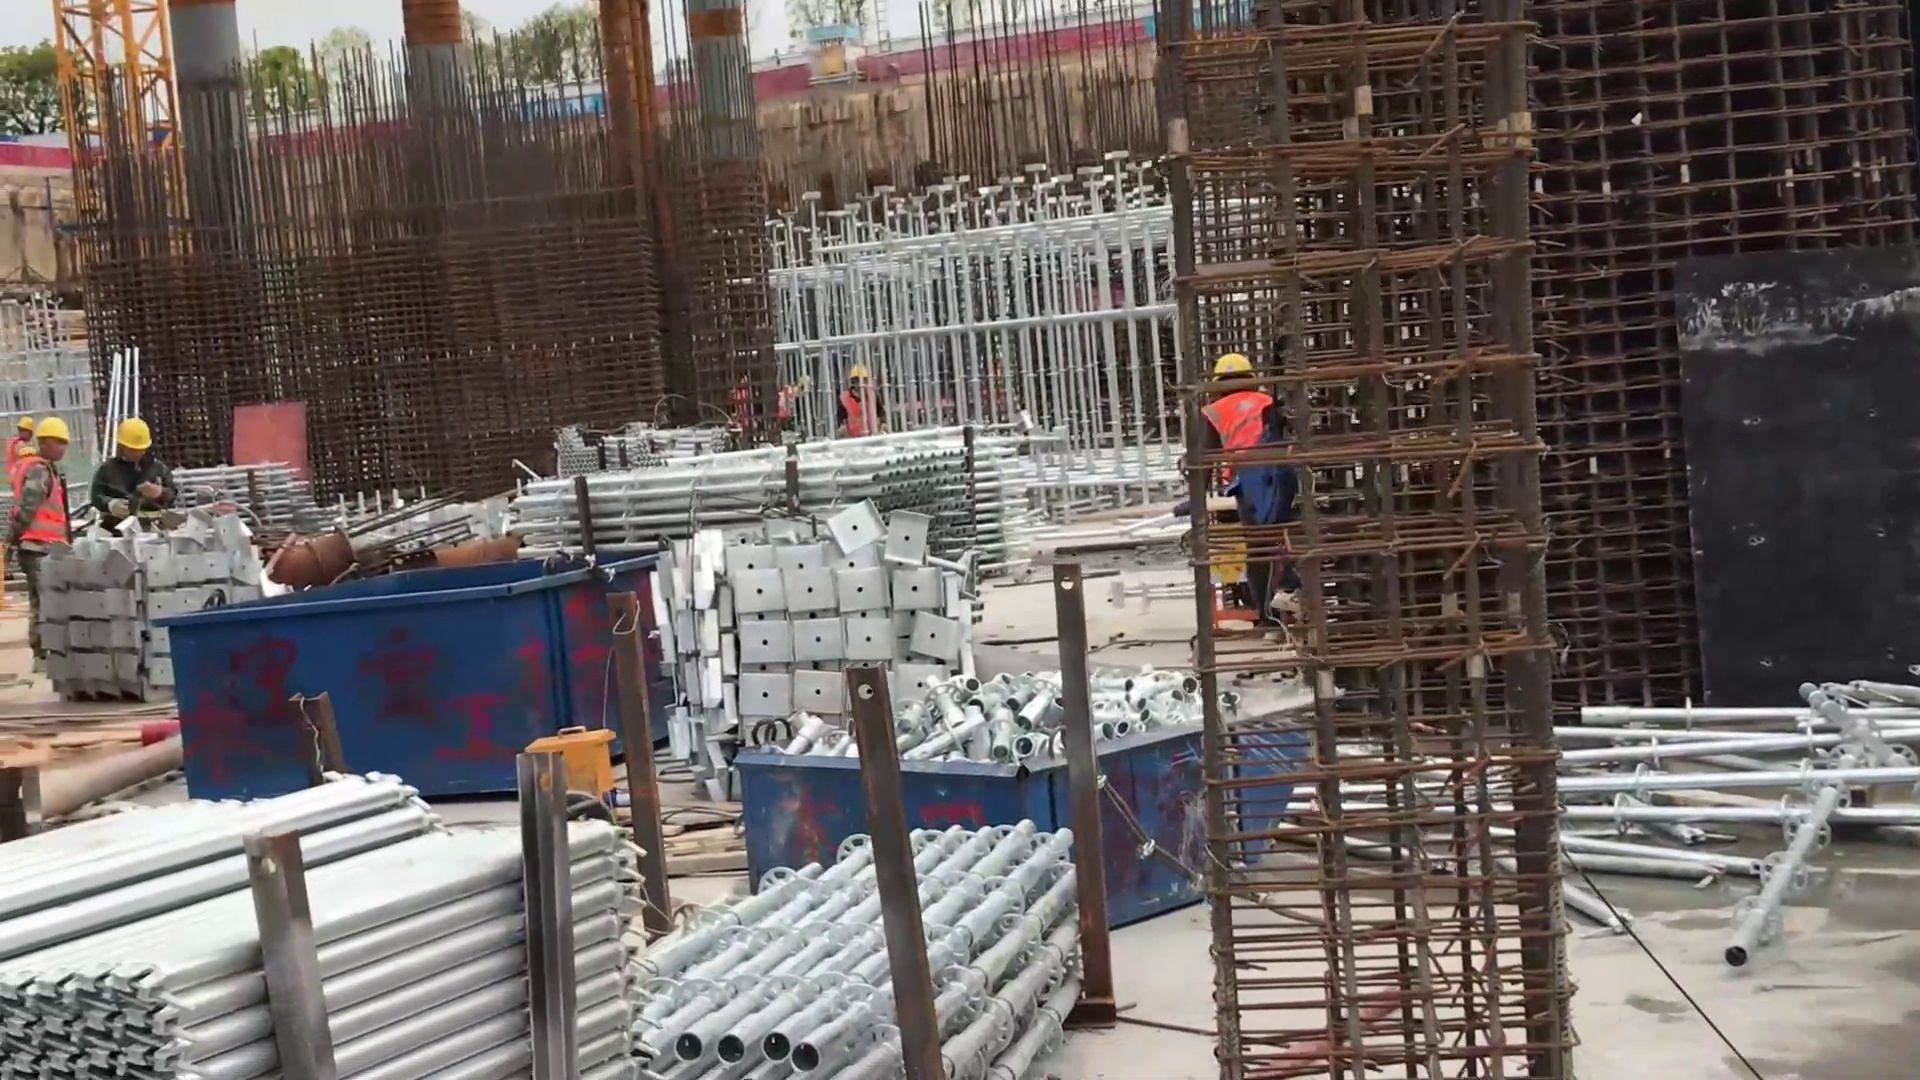ebox: (507, 719, 626, 824)
helmet: (1209, 348, 1260, 393), (111, 415, 154, 454), (34, 418, 72, 449), (15, 414, 40, 441)
hopper: (731, 709, 1303, 936), (176, 557, 674, 809)
person: (1200, 342, 1295, 636), (1, 413, 85, 594), (85, 415, 178, 540), (1, 406, 43, 494)
scaffold: (1, 747, 646, 1080), (636, 802, 1100, 1080), (498, 436, 1003, 586), (174, 459, 343, 557)
vest: (13, 459, 75, 552), (1205, 388, 1275, 463), (1, 438, 32, 479)
